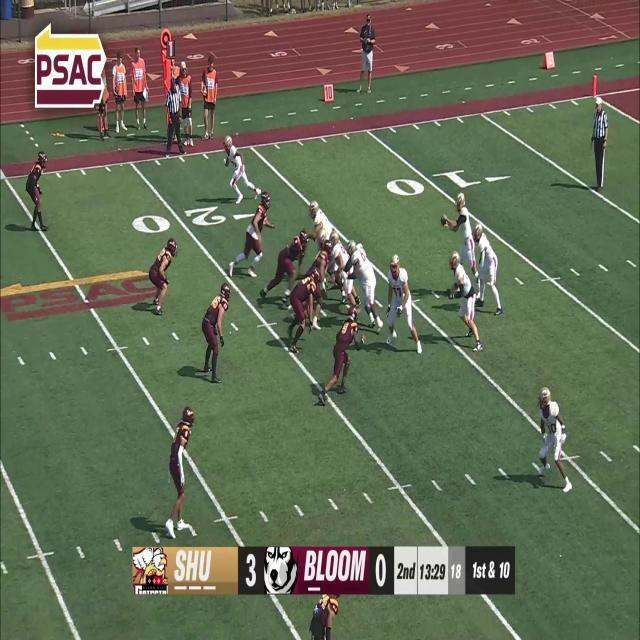football: (439, 215, 446, 227)
